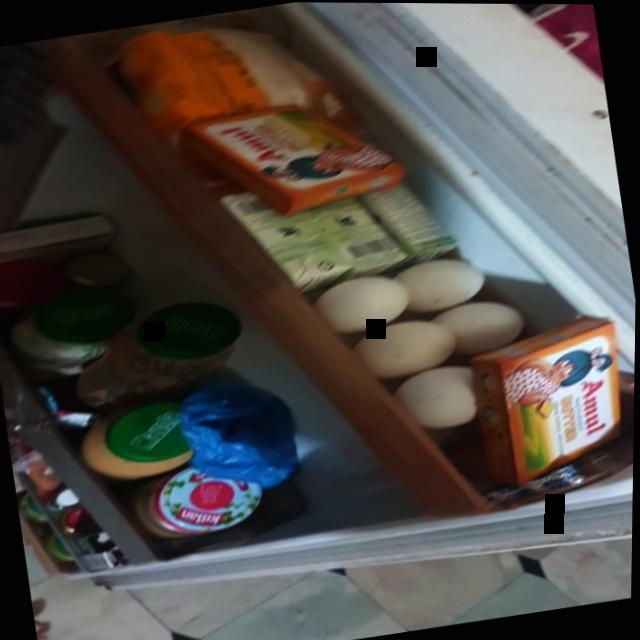butter: (179, 70, 414, 238), (471, 309, 636, 498)
